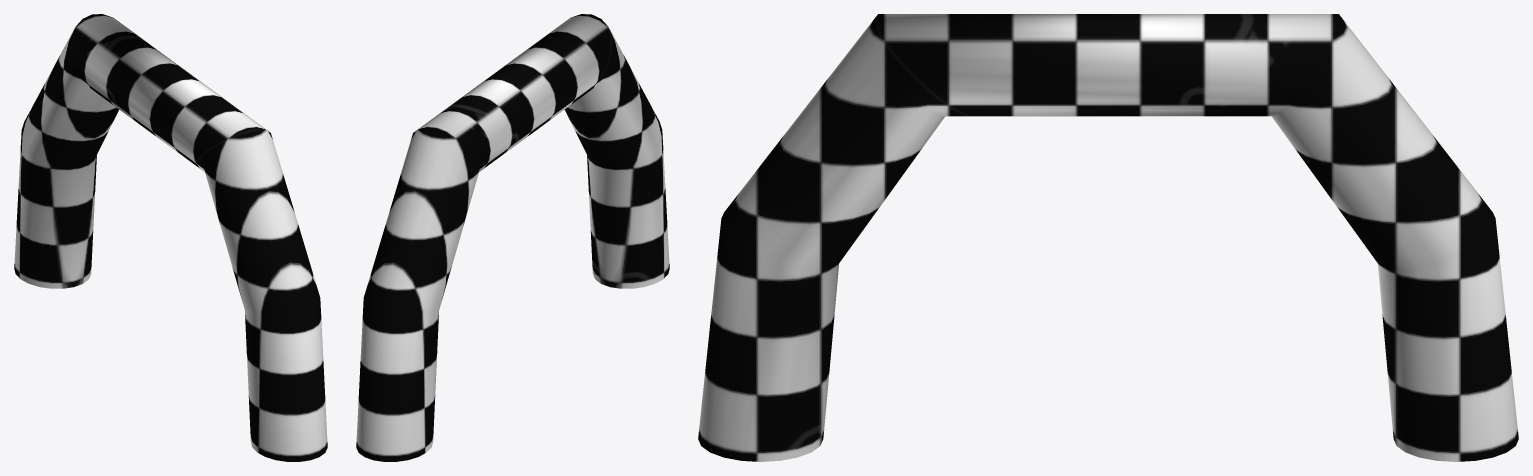
File: Finish.fbx
3 renders of one model, left to right at view 1: azimuth 30°, elevation 25°; view 2: azimuth 150°, elevation 25°; view 3: azimuth 270°, elevation 25°, orthographic. The views are drawn at different scales.
Visible parts, largest first — view 1: pCylinder1; view 2: pCylinder1; view 3: pCylinder1.
Boxes of the visible parts, bbox=[...] form: pCylinder1: bbox=[14, 14, 327, 461]; pCylinder1: bbox=[356, 14, 669, 461]; pCylinder1: bbox=[698, 14, 1518, 461].
Bounding box in the file's own units: 3 × 12.79 × 22.64.
Materials: 1 (1 with a texture image).
